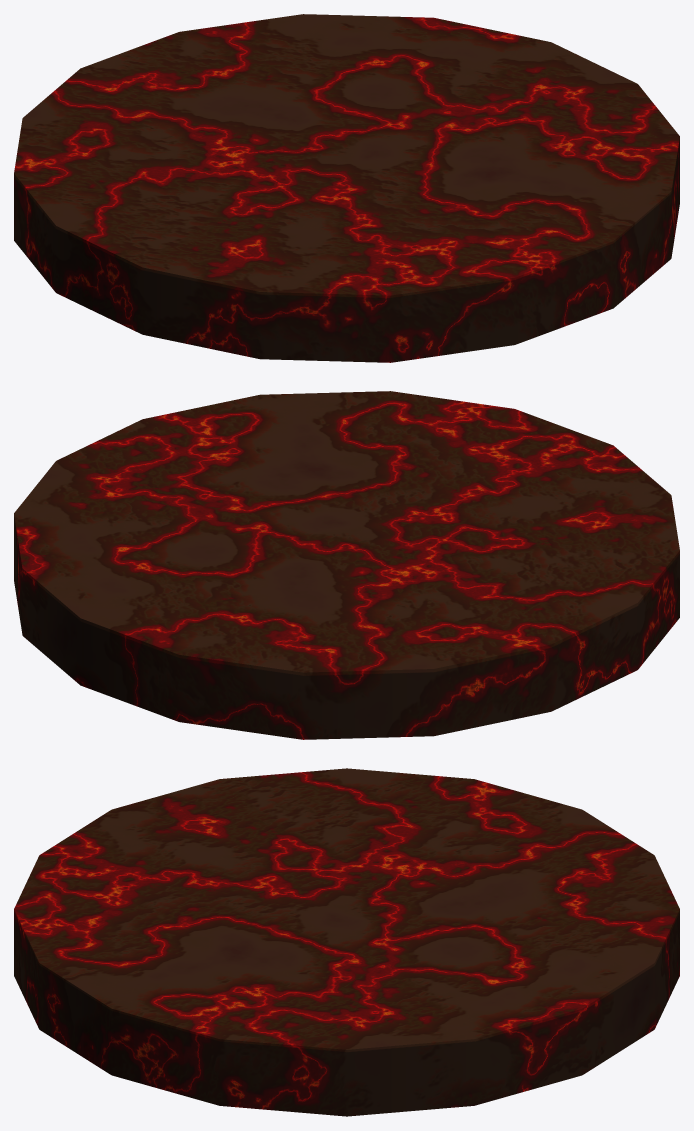
Rendered from stage2.FBX.
3 views of the same model, one above another, from view 1: azimuth 30°, elevation 25°; view 2: azimuth 150°, elevation 25°; view 3: azimuth 270°, elevation 25° (orthographic).
Visible parts, largest first — view 1: Cylinder001; view 2: Cylinder001; view 3: Cylinder001.
Part boxes in pixels (<box>): Cylinder001: <box>14,14,679,362</box>; Cylinder001: <box>14,391,679,739</box>; Cylinder001: <box>14,768,679,1116</box>.
Bounding box in the file's own units: 1434 × 158 × 1434.
